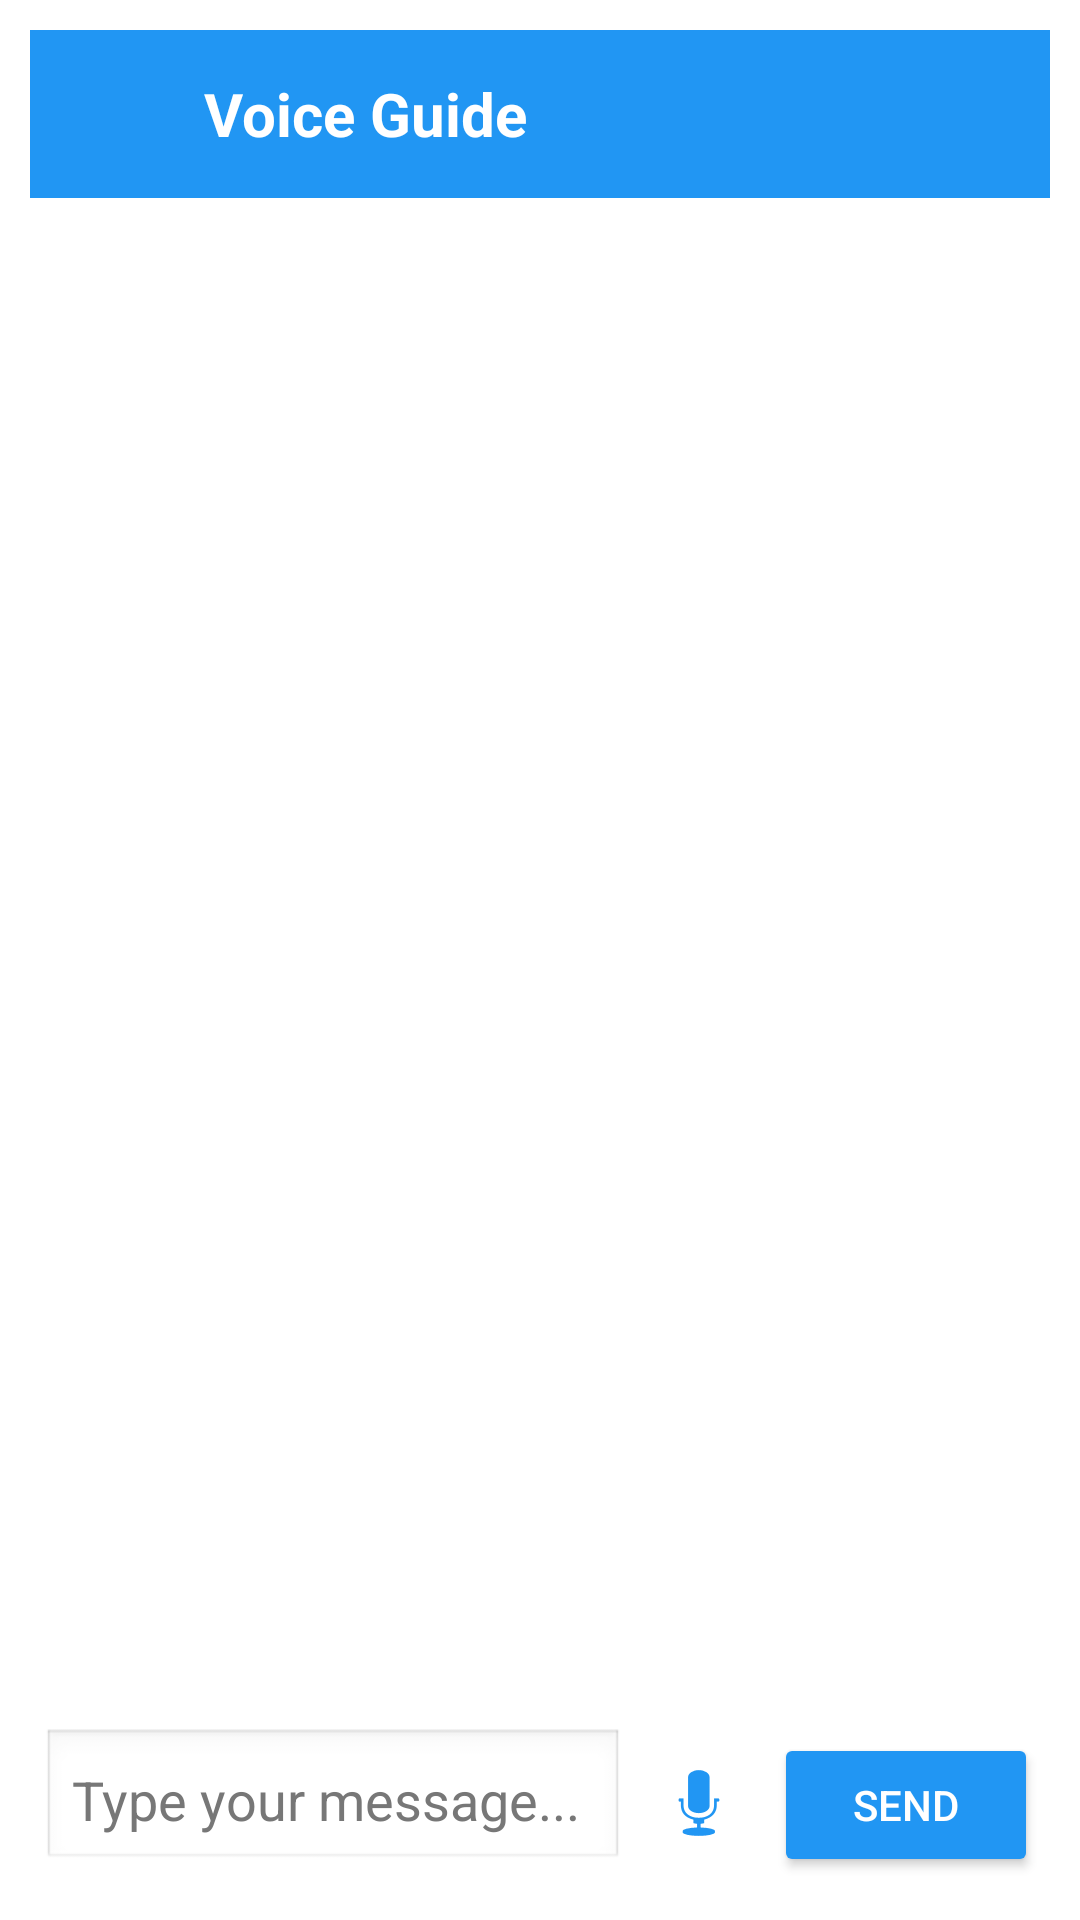

Named icons in this screenshot (1080*1920) and their centers, [x,y]:
Mic: [699,1803]
